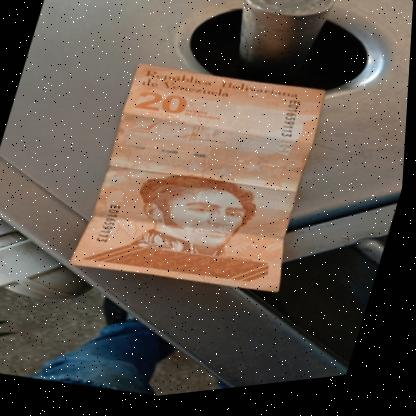twenty-front-vef: (69, 48, 343, 320)
